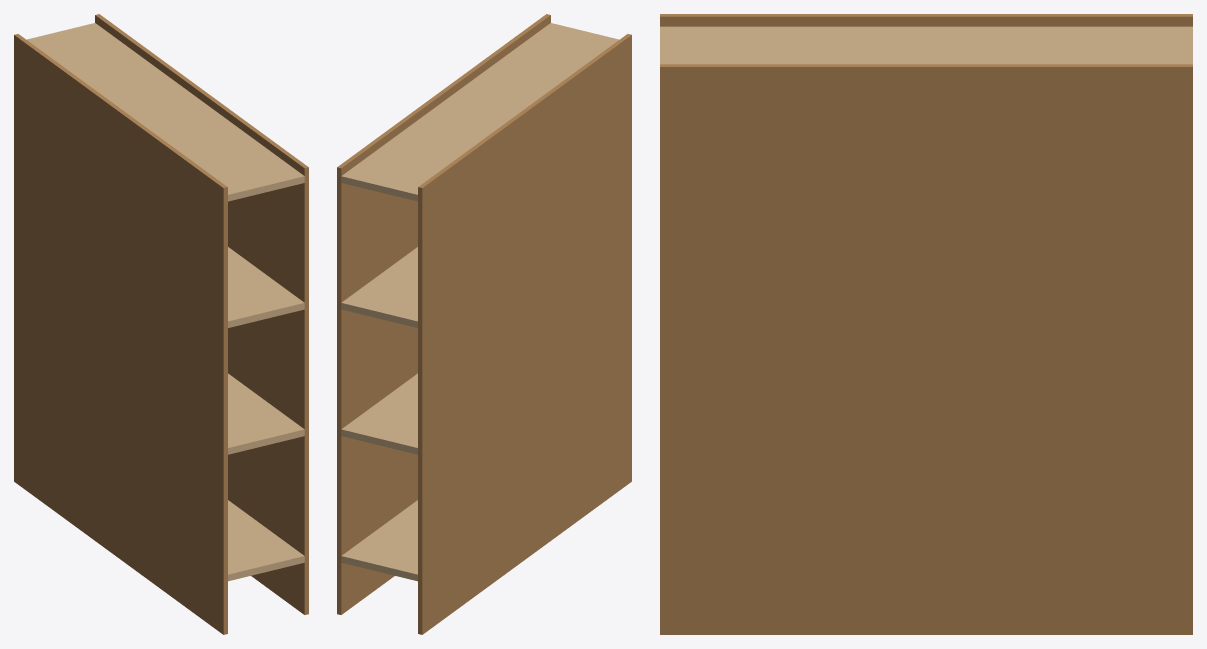
3 renders of one model, left to right at view 1: azimuth 30°, elevation 25°; view 2: azimuth 150°, elevation 25°; view 3: azimuth 270°, elevation 25°, orthographic. The views are drawn at different scales.
Parts seen in each view (by area): view 1: estante_stuff; view 2: estante_stuff; view 3: estante_stuff.
Part boxes in pixels (x1,y1,x2,y2): estante_stuff: [14, 14, 308, 634]; estante_stuff: [337, 14, 631, 634]; estante_stuff: [660, 14, 1192, 634].
Bounding box in the file's own units: 0.4 × 1.7 × 2.
